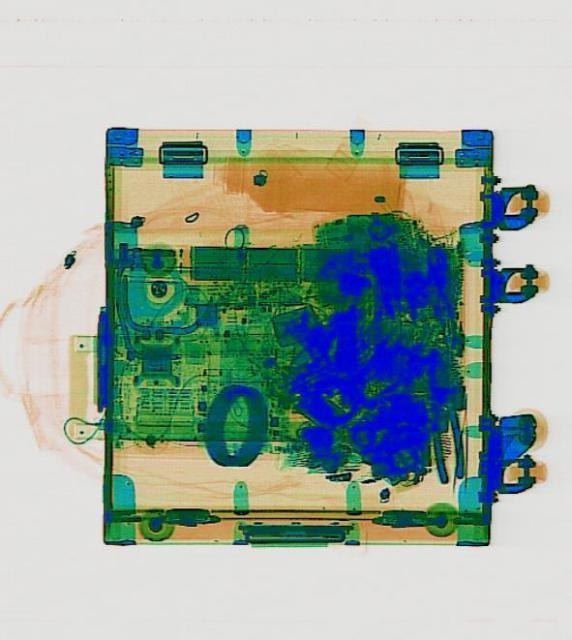Pliers: (419, 346, 466, 482)
